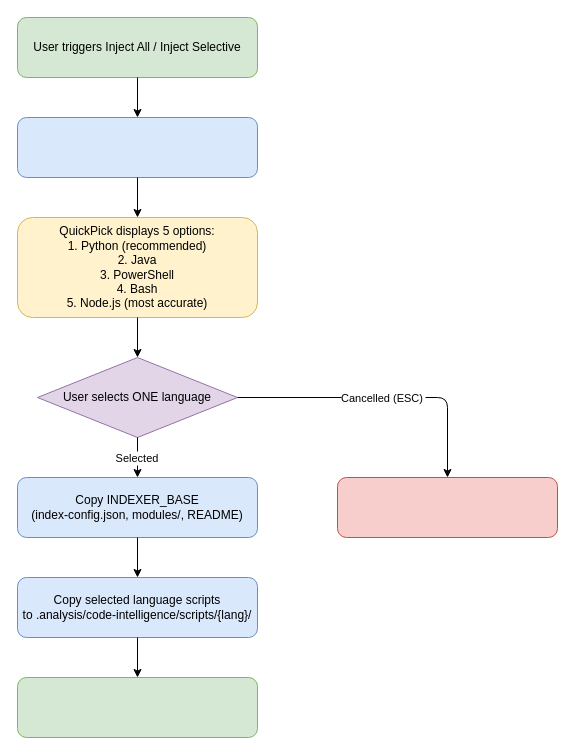
This 575x755 diagram has some shape labels left out. The shapes that lost their labels are listed below. From the top down, each one's centre as x and y in pixels, then its label:
pixel 137 147: System shows QuickPick "Choose ONE indexer language"
pixel 447 507: No indexer copied (core components still injected)
pixel 137 707: Report success: "✅ Injected indexer-{lang}"
